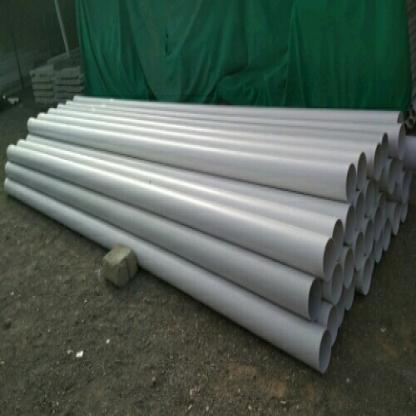PVC: (4, 94, 415, 375)
